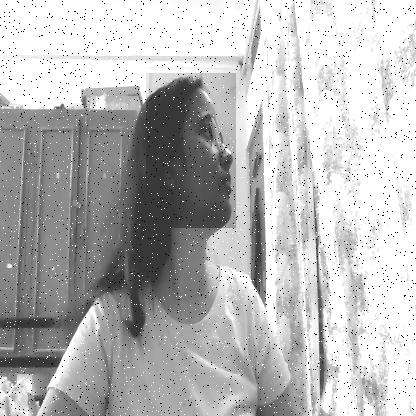Distracted: (146, 73, 236, 228)
